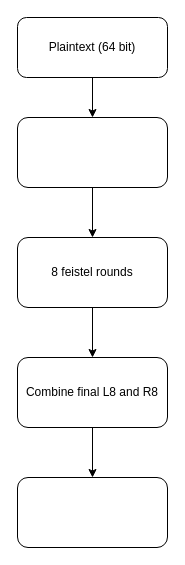
Image size: 185x565. Some labels were removed from this diagram. The shapes that lost their labels are listed below. From the top down, each one's centre as x and y in pixels, then its label:
the point at 92,152: Split into L0 and R0
the point at 92,512: Apply PKCS#7 padding -> ciphertext
